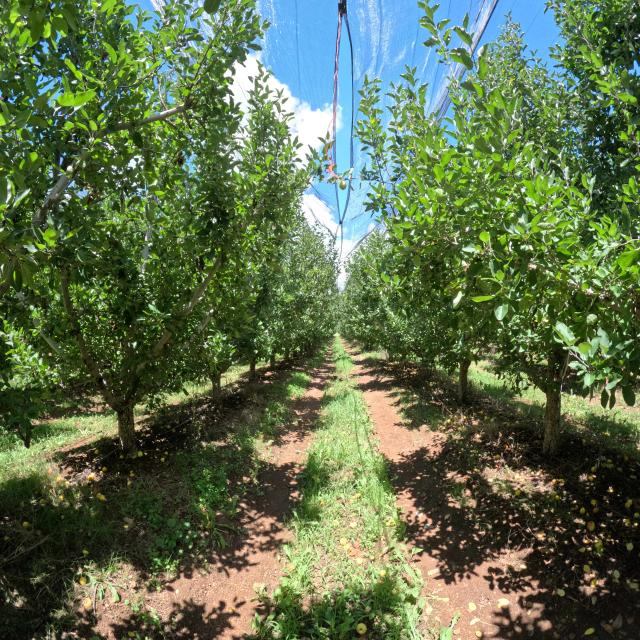-FireBlight-: (624, 284, 640, 321), (82, 179, 104, 205)
